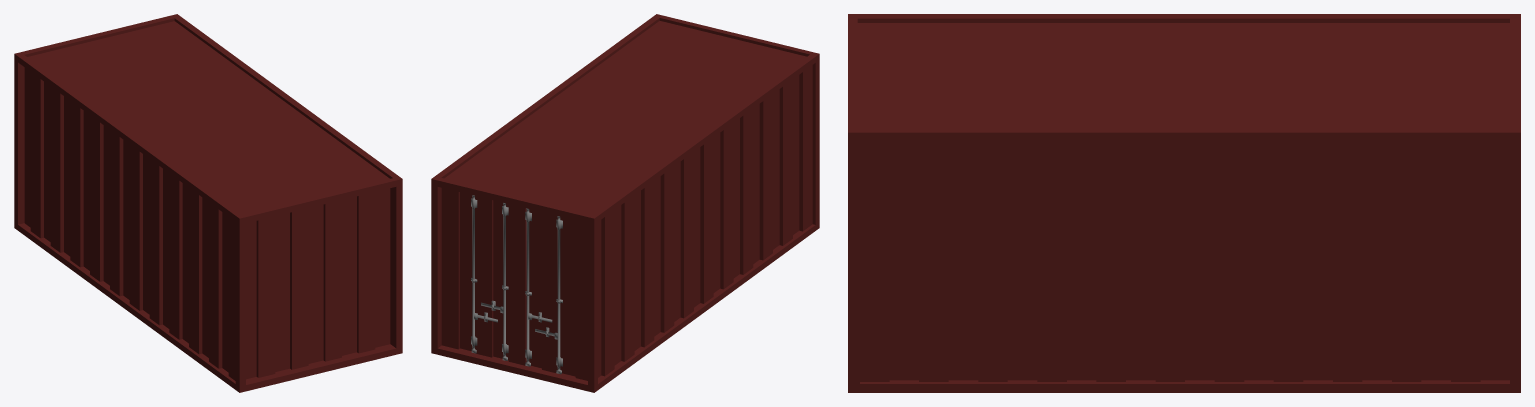
The model's file is Cargo.fbx.
The picture shows the model from 3 angles, left to right: view 1: azimuth 30°, elevation 25°; view 2: azimuth 150°, elevation 25°; view 3: azimuth 270°, elevation 25°; orthographic projection. The views are drawn at different scales.
Visible parts, largest first — view 1: Cargo; view 2: Cargo, Steel; view 3: Cargo.
Boxes of the visible parts, x1,y1,x2,y2 form: Cargo: (14, 14, 402, 392); Cargo: (431, 14, 819, 392); Steel: (471, 195, 562, 374); Cargo: (848, 14, 1520, 392).
Bounding box in the file's own units: 337 × 345 × 808.
